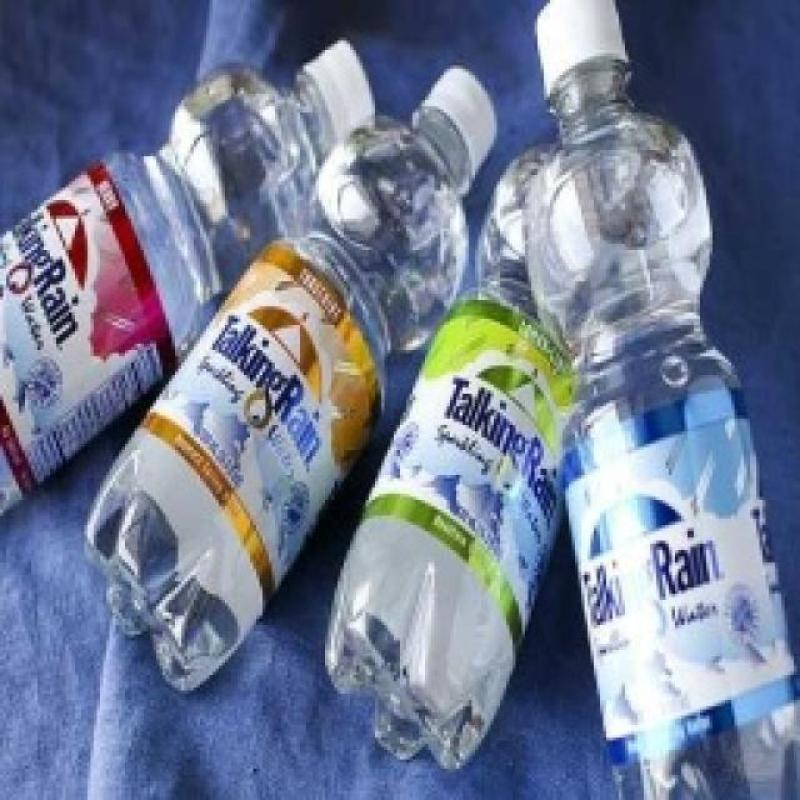botella: (86, 63, 499, 692), (531, 0, 800, 800), (0, 36, 381, 520), (327, 138, 562, 774)
